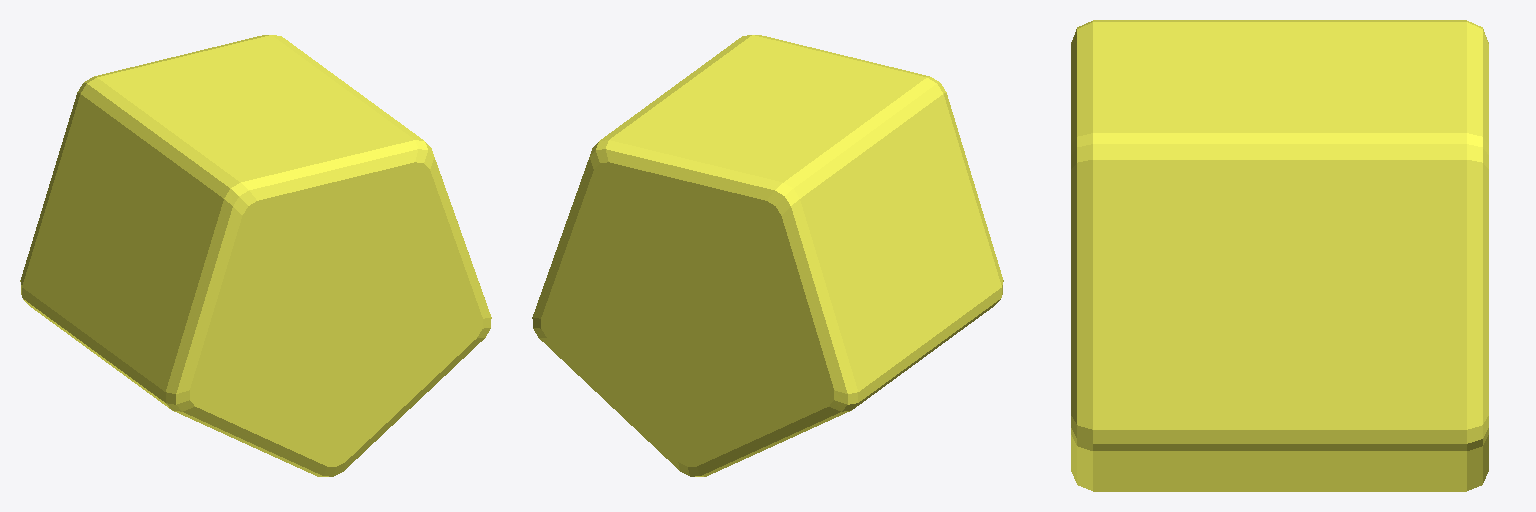
The robot description file, URDF, robot "yellow_pentagon.urdf":
<?xml version="1.0" ?>
<robot name="yellow_pentagon.urdf">
  <link name="baseLink">
    <contact>
      <lateral_friction value="0.5"/>
      <rolling_friction value="0.0001"/>
      <inertia_scaling value="1.0"/>
    </contact>
    <inertial>
      <origin rpy="0 0 0" xyz="0 0 0"/>
       <mass value=".01"/>
       <inertia ixx="1" ixy="0" ixz="0" iyy="1" iyz="0" izz="1"/>
    </inertial>
    <visual>
      <origin rpy="0 0 0" xyz="0 0 0"/>
      <geometry>
        <mesh filename="pentagon.obj" scale="1.0 1.0 1.0"/>
      </geometry>
       <material name="yellow">
        <color rgba="1 1 0.4 1"/>
      </material>
    </visual>
    <collision>
      <origin rpy="0 0 0" xyz="0 0 0"/>
      <geometry>
        <mesh filename="pentagon.obj" scale="1.0 1.0 1.0"/>
      </geometry>
    </collision>
  </link>
</robot>

--- Facts derived from the render (not from the file) ---
The picture shows the robot from 3 angles, left to right: view 1: azimuth 30°, elevation 25°; view 2: azimuth 150°, elevation 25°; view 3: azimuth 270°, elevation 25°; orthographic projection.
Model yellow_pentagon.urdf with 1 links and 0 joints (none), rooted at baseLink, posed every joint at zero.
Links seen in each view (by area): view 1: baseLink; view 2: baseLink; view 3: baseLink.
Boxes of the visible links, x1,y1,x2,y2 form: baseLink: [20, 35, 491, 476]; baseLink: [532, 35, 1003, 476]; baseLink: [1071, 20, 1488, 491].
Size in the robot's own frame: 0.0444 by 0.0381 by 0.0413 metres.
1 mesh visuals loaded from 1 distinct referenced files (1 OBJ).